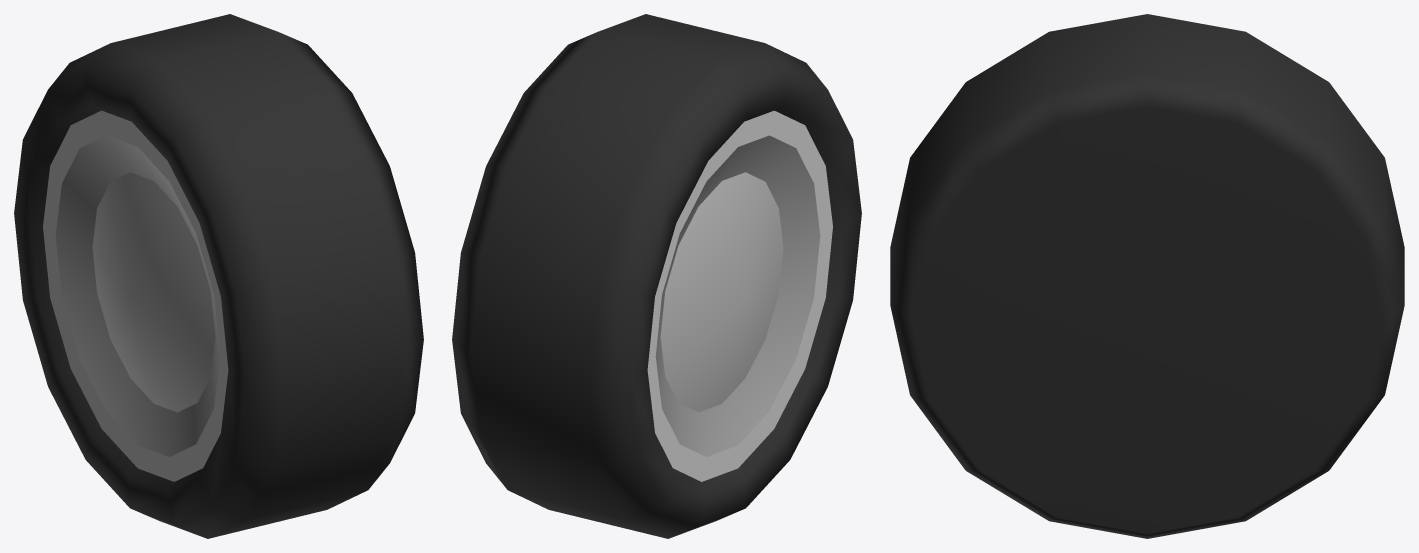
Rendered from u_van_van_wheel_rear_right_.glb.
The picture shows the model from 3 angles, left to right: view 1: azimuth 30°, elevation 25°; view 2: azimuth 150°, elevation 25°; view 3: azimuth 270°, elevation 25°; orthographic projection.
Visible parts, largest first — view 1: Van_Wheel_Rear_Right; view 2: Van_Wheel_Rear_Right; view 3: Van_Wheel_Rear_Right.
Part boxes in pixels (x1,y1,x2,y2): Van_Wheel_Rear_Right: (14, 14, 423, 538); Van_Wheel_Rear_Right: (452, 14, 861, 538); Van_Wheel_Rear_Right: (890, 14, 1404, 538).
Size of the model in its own units: 32.42 by 80 by 80.
Materials: 2 (2 with a texture image).
